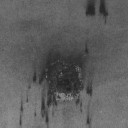iron sheet ash: (39, 56, 93, 123), (98, 0, 109, 25), (85, 0, 98, 18), (32, 70, 36, 82), (87, 114, 90, 124)
